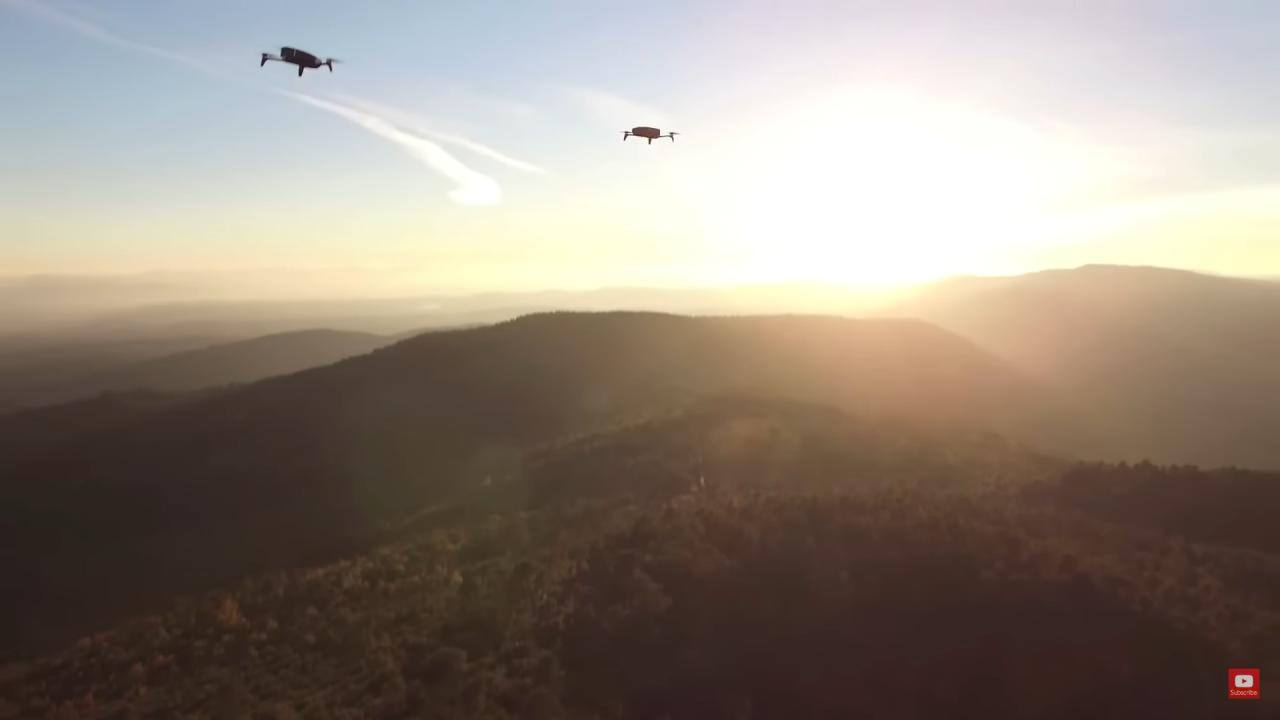Drone: (247, 37, 351, 86), (611, 115, 686, 155)
